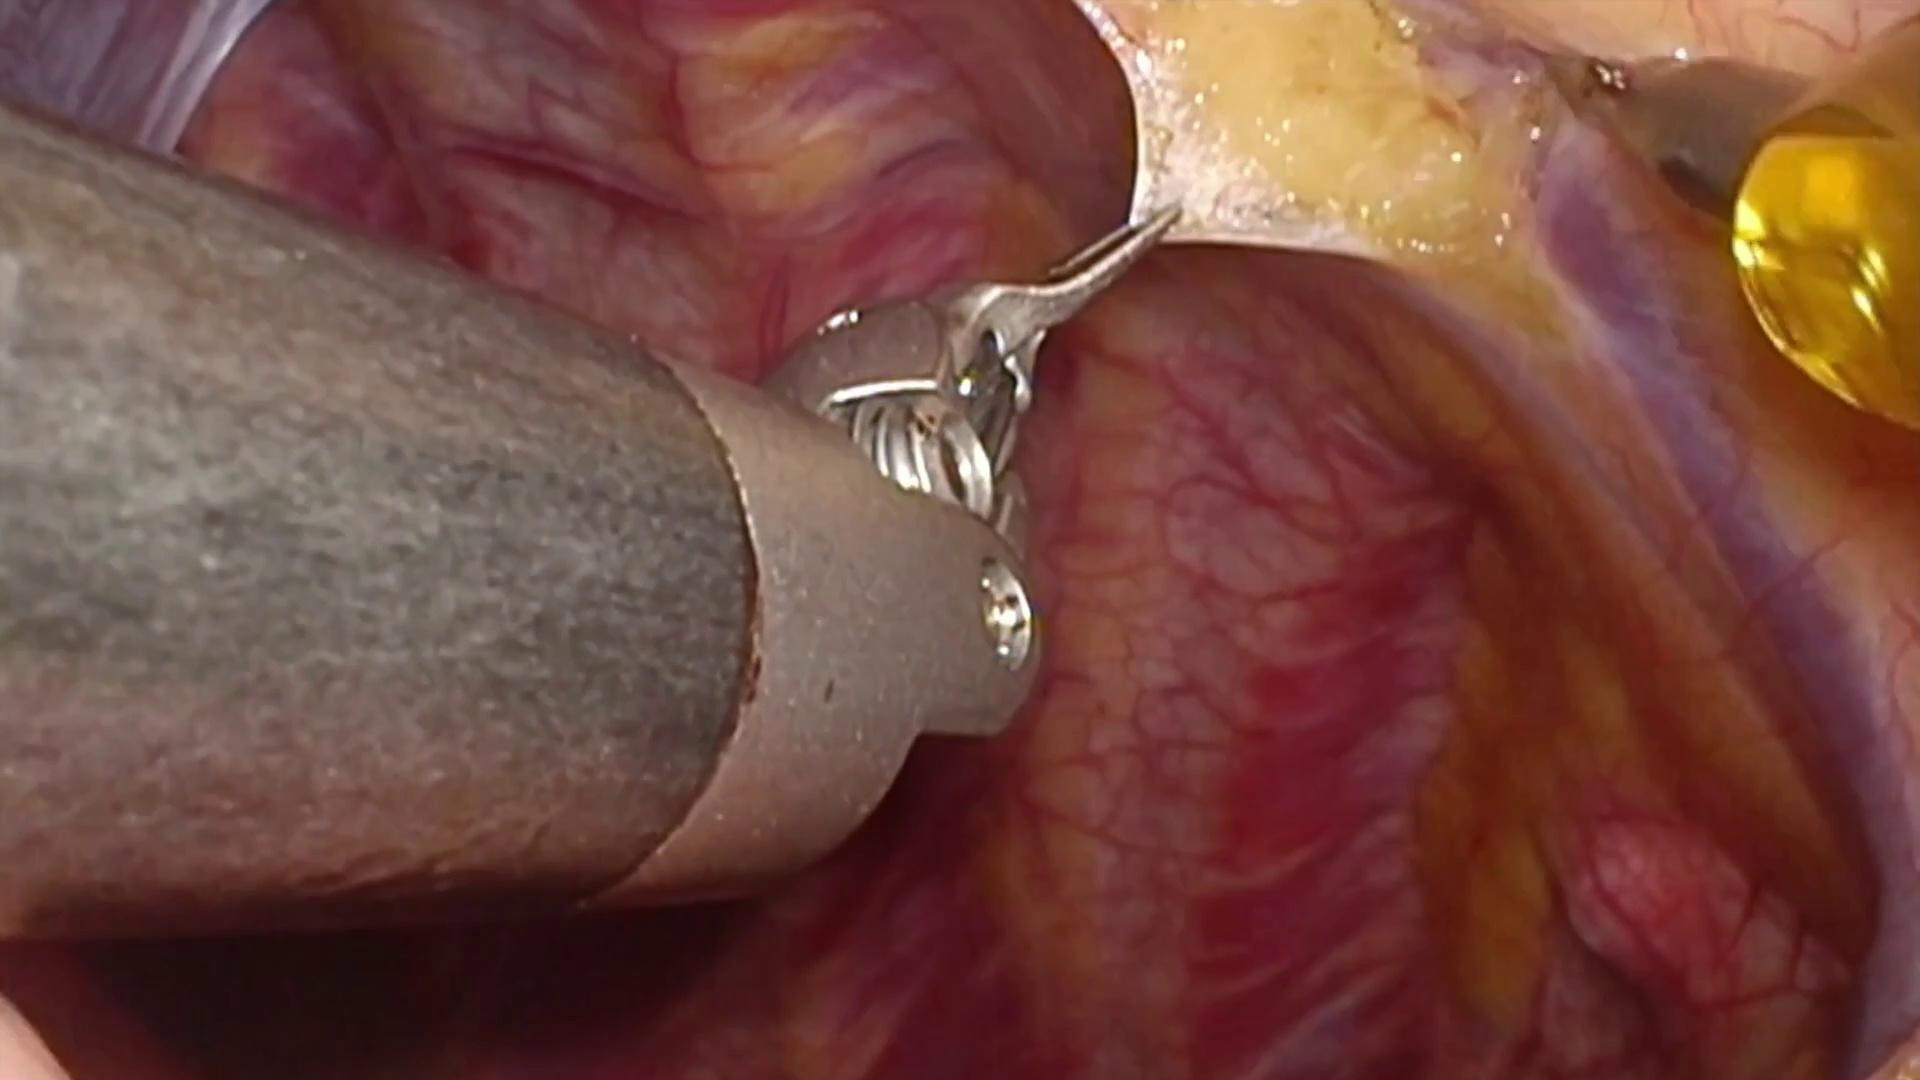Cautery_Spatula: (1538, 42, 1832, 216), (1536, 41, 1647, 146)
Debakey: (932, 195, 1192, 425)
